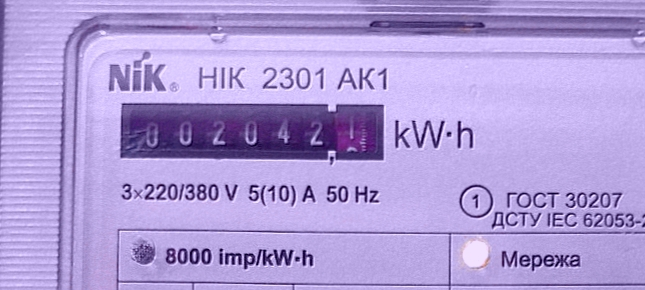0: (142, 118, 160, 148), (241, 116, 259, 146), (176, 117, 193, 148)
1: (343, 111, 357, 142)
2: (209, 117, 227, 146), (307, 117, 324, 146)
4: (274, 114, 292, 146)
screen: (115, 96, 389, 170)
